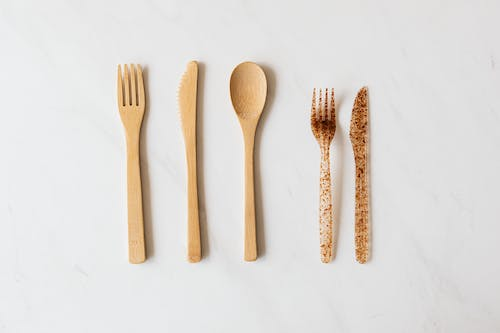knife: (176, 57, 204, 262), (346, 84, 371, 266)
